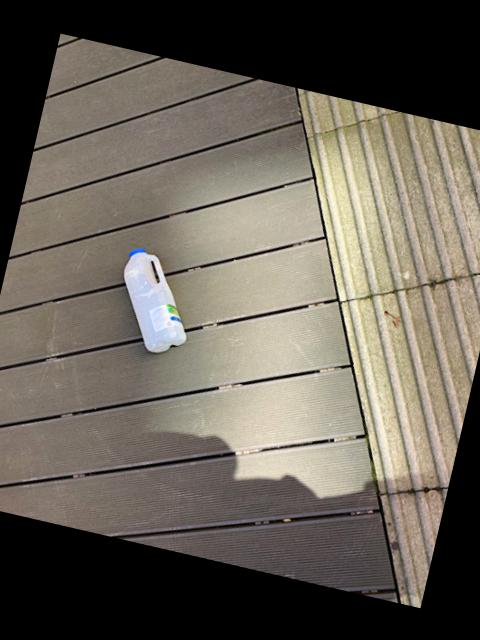plastic: (122, 249, 184, 352)
